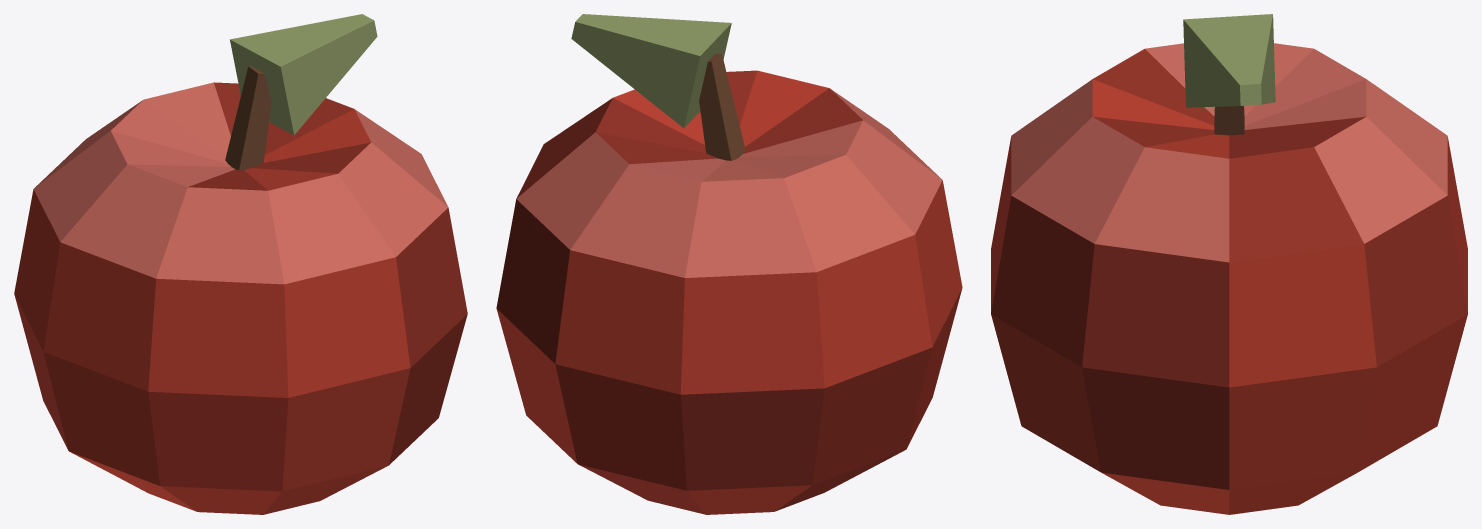
Rendered from SM_Snack_Apple.fbx.
3 renders of one model, left to right at view 1: azimuth 30°, elevation 25°; view 2: azimuth 150°, elevation 25°; view 3: azimuth 270°, elevation 25°, orthographic. The views are drawn at different scales.
Parts seen in each view (by area): view 1: SM_Snack_Apple; view 2: SM_Snack_Apple; view 3: SM_Snack_Apple.
Part boxes in pixels (bbox=[...]): SM_Snack_Apple: bbox=[14, 14, 467, 514]; SM_Snack_Apple: bbox=[496, 14, 962, 514]; SM_Snack_Apple: bbox=[991, 14, 1467, 514].
Size of the model in its own units: 0.94 by 0.9431 by 0.894.
